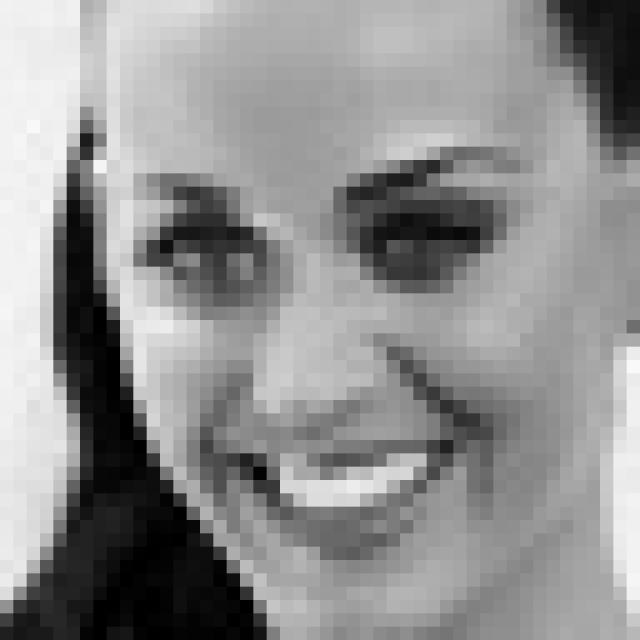happy: (129, 134, 526, 560)
